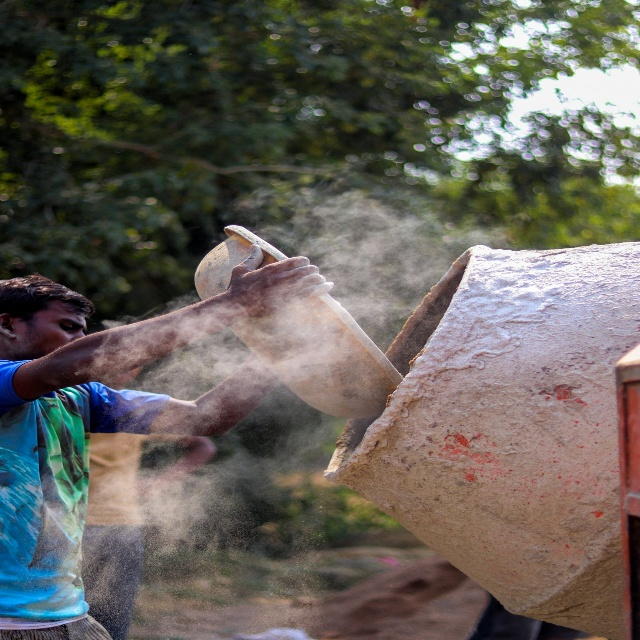Sin_guantes: (229, 243, 334, 322)
